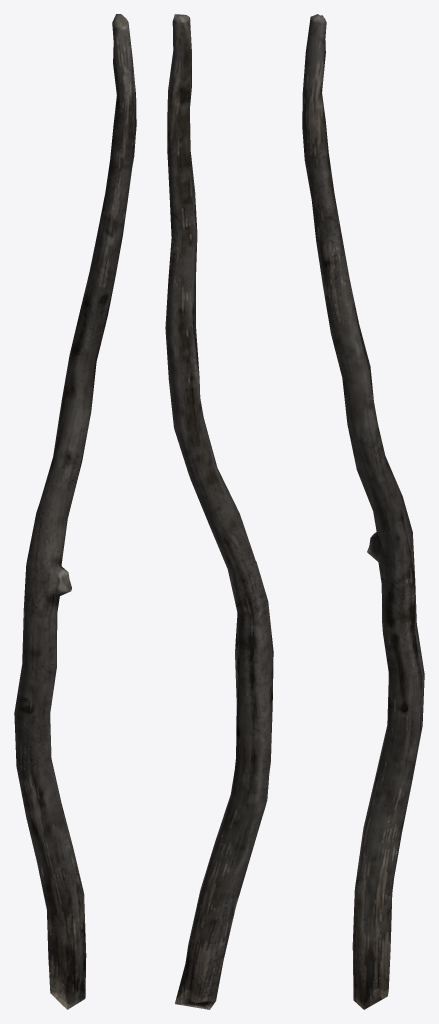
Rendered from SM_Single_Twig_C.fbx.
3 renders of one model, left to right at view 1: azimuth 90°, elevation 25°; view 2: azimuth 210°, elevation 25°; view 3: azimuth 270°, elevation 25°, orthographic.
Visible parts, largest first — view 1: SM_Single_Twig_C_LOD0; view 2: SM_Single_Twig_C_LOD0; view 3: SM_Single_Twig_C_LOD0.
Part boxes in pixels (x1=…): SM_Single_Twig_C_LOD0: x1=14, y1=14, x2=136, y2=1009; SM_Single_Twig_C_LOD0: x1=165, y1=14, x2=273, y2=1009; SM_Single_Twig_C_LOD0: x1=302, y1=14, x2=424, y2=1009.
Size of the model in its own units: 11.76 by 15.44 by 138.
Materials: 1 (1 with a texture image).
